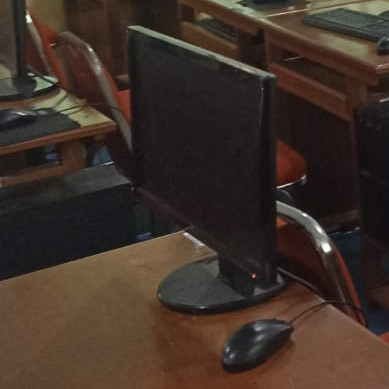monitor: (126, 25, 279, 291), (0, 1, 60, 100), (302, 5, 389, 44), (0, 0, 27, 81)
